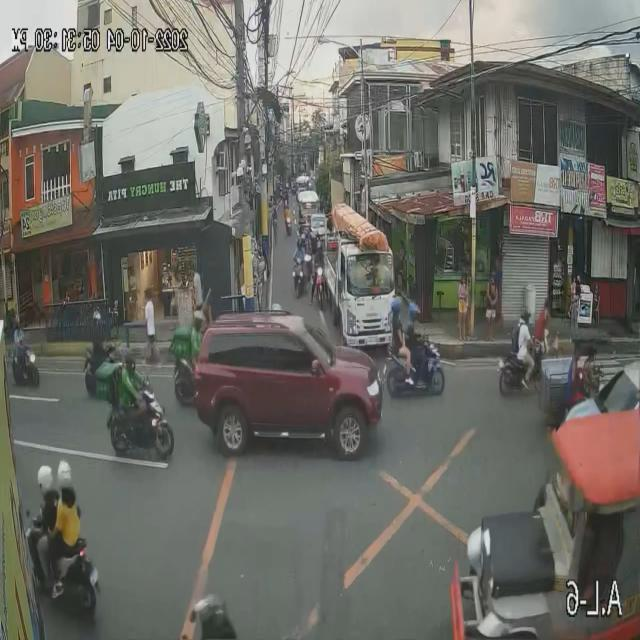full: (34, 463, 54, 499), (408, 299, 422, 323), (192, 309, 205, 330), (125, 353, 137, 375), (391, 297, 402, 315), (520, 307, 530, 323)
half: (56, 461, 72, 493)
